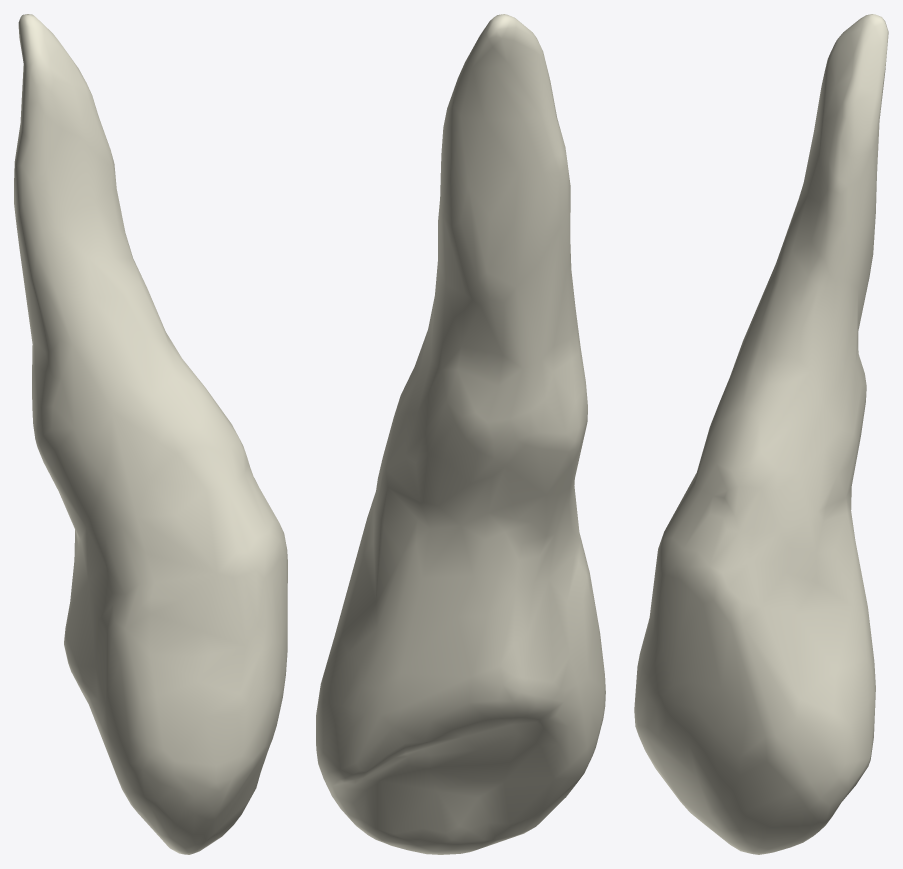
File: Left upper canine tooth.fbx
3 renders of one model, left to right at view 1: azimuth 30°, elevation 25°; view 2: azimuth 150°, elevation 25°; view 3: azimuth 270°, elevation 25°, orthographic. The views are drawn at different scales.
Parts seen in each view (by area): view 1: Left upper canine tooth; view 2: Left upper canine tooth; view 3: Left upper canine tooth.
Boxes of the visible parts, x1,y1,x2,y2 form: Left upper canine tooth: [14, 14, 287, 854]; Left upper canine tooth: [316, 14, 605, 854]; Left upper canine tooth: [634, 14, 888, 854].
Bounding box in the file's own units: 1.23 × 4.18 × 1.23.
